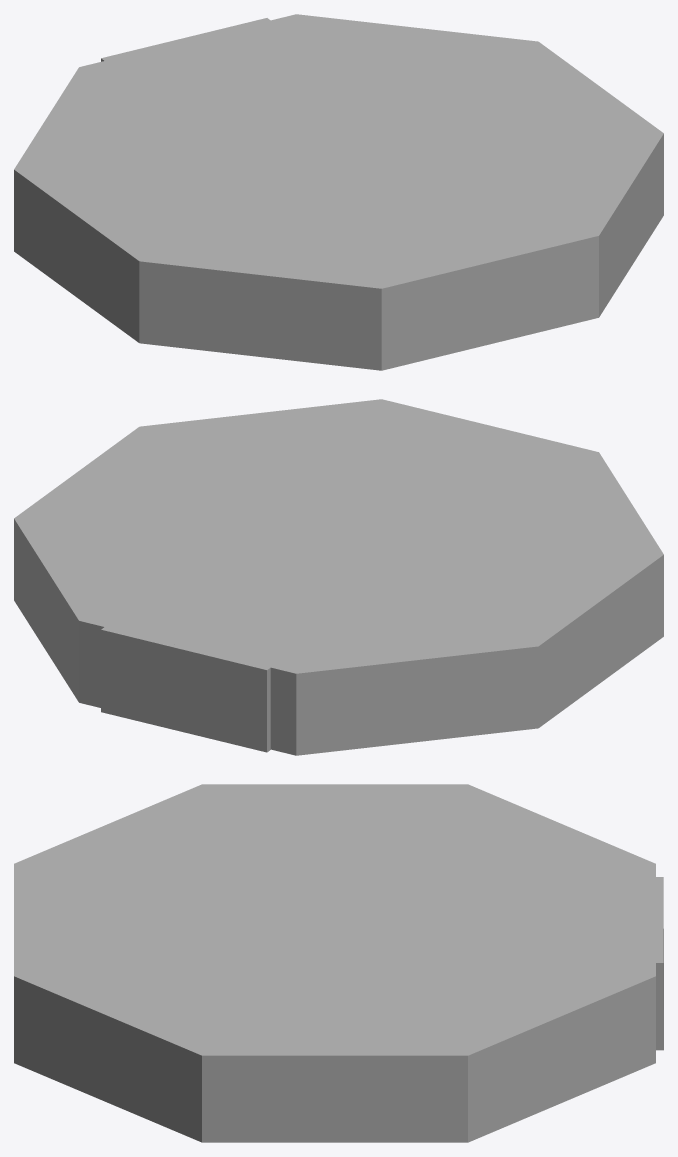
File: Itr_Trashcan4_Cap_02.FBX
3 views of the same model, one above another, from view 1: azimuth 30°, elevation 25°; view 2: azimuth 150°, elevation 25°; view 3: azimuth 270°, elevation 25° (orthographic). The views are drawn at different scales.
Parts seen in each view (by area): view 1: Itr_Trashcan4_Cap_02; view 2: Itr_Trashcan4_Cap_02; view 3: Itr_Trashcan4_Cap_02.
Boxes of the visible parts, box(x1,y1,x2,y2) form: Itr_Trashcan4_Cap_02: box(14, 14, 663, 370); Itr_Trashcan4_Cap_02: box(14, 399, 663, 755); Itr_Trashcan4_Cap_02: box(14, 784, 663, 1142).
Bounding box in the file's own units: 12.01 × 1.8 × 12.15.
